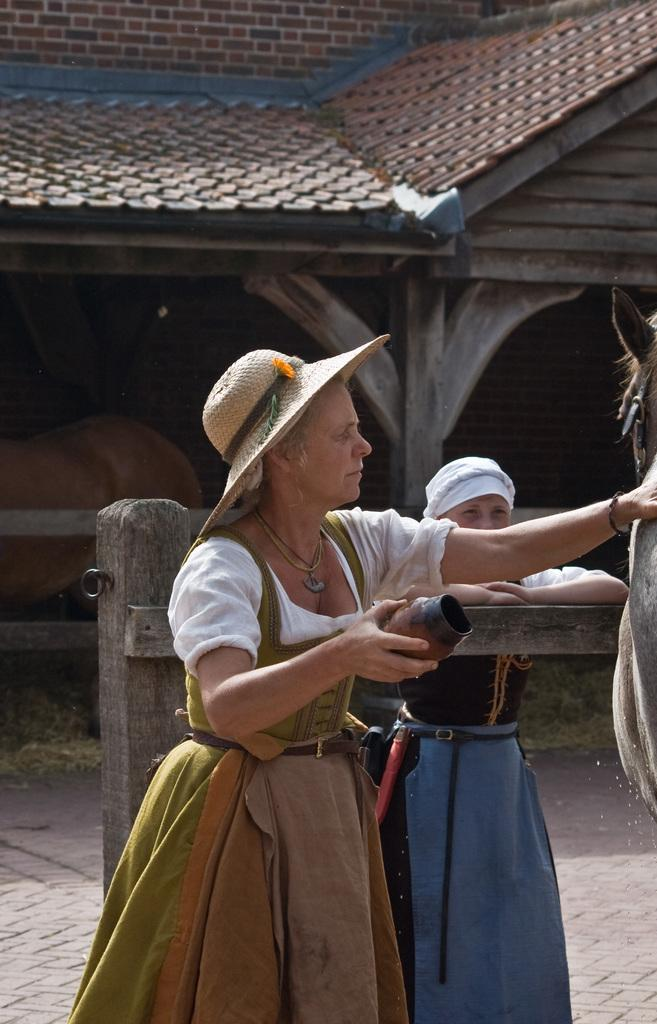Hat: (198, 336, 394, 540)
